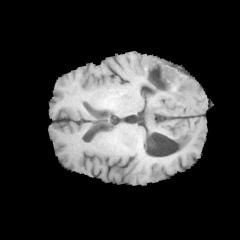glioma: (144, 54, 202, 101)
